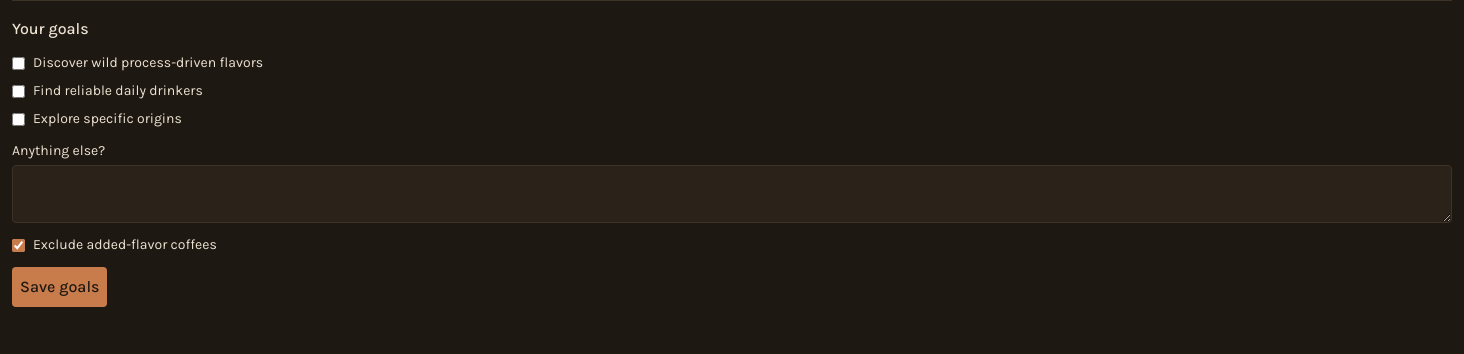
Scenario: DirectiveEditor › surfaces an error when saving fails
Step 1. Click the button "Save goals" → (60, 287), box [12,267,108,307]
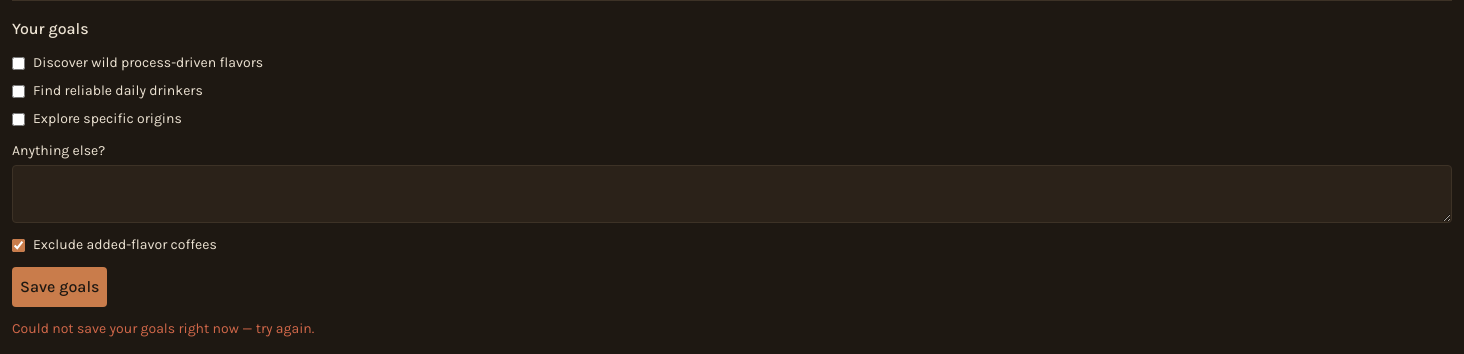
Now the message shows "try again", box [12,320,314,337]
